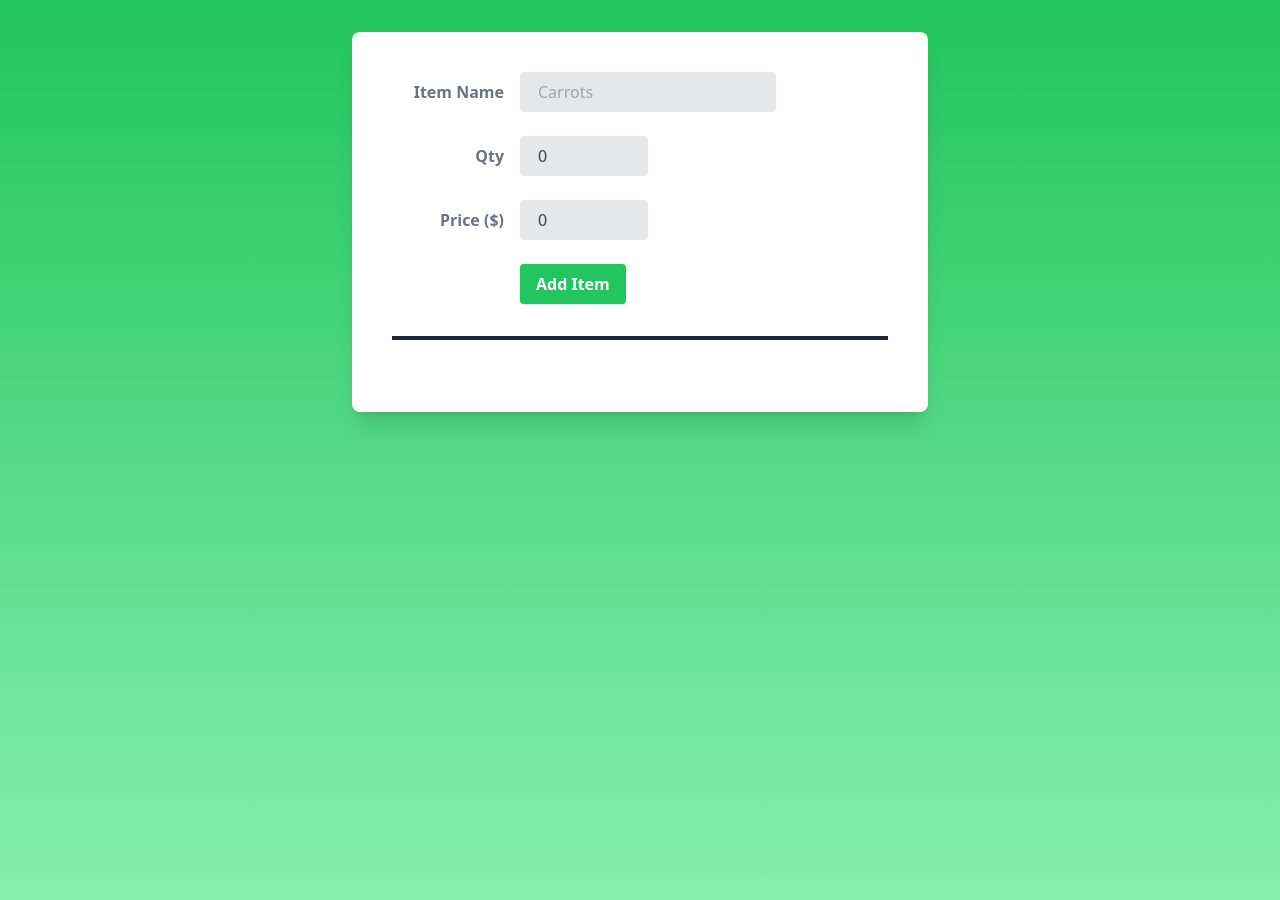
Test case: Adding items › Adds an item to the list
Type "Potatoes" into the field labelled "Item Name" at (648, 92), box [520, 72, 776, 112]
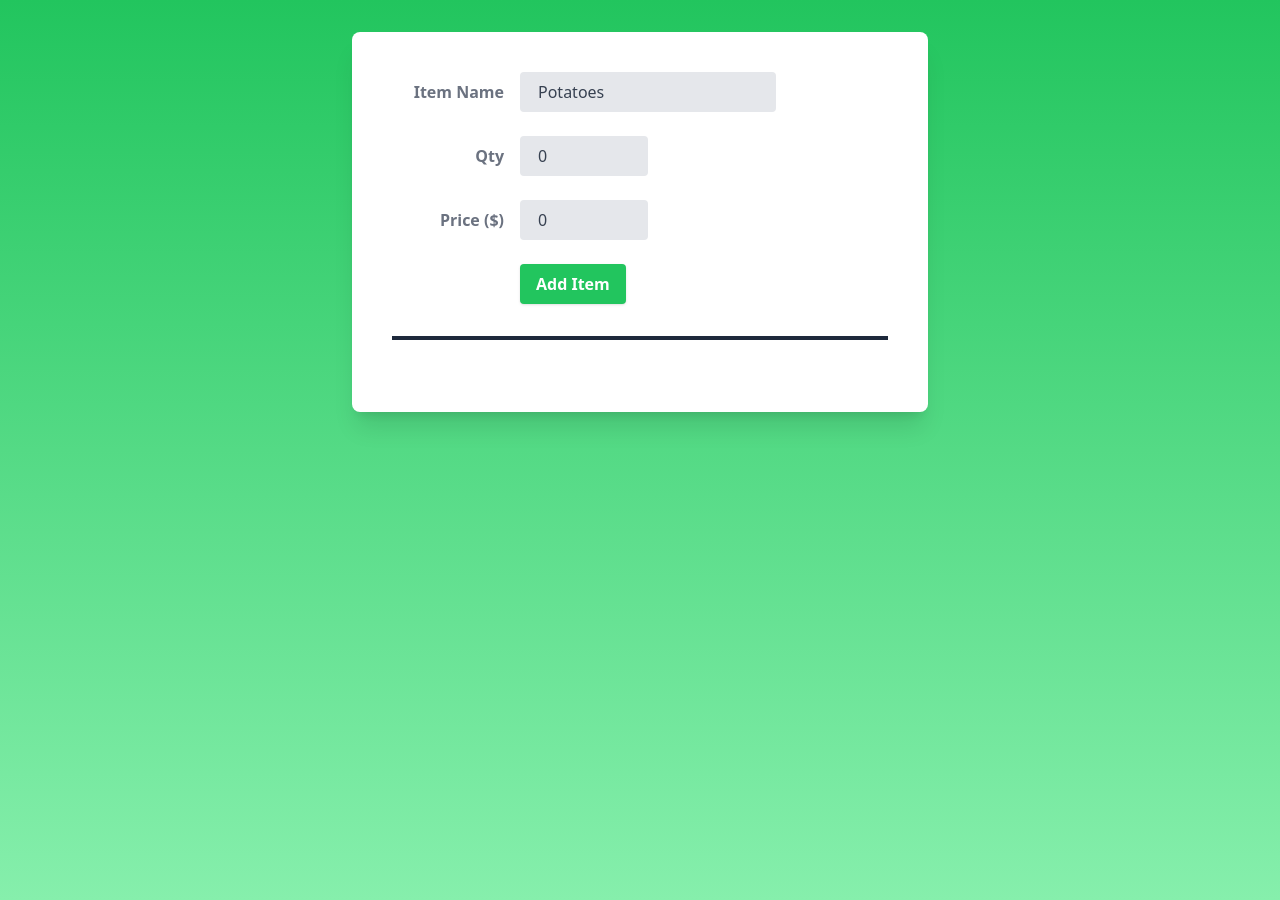
Replace the text in the number field labelled "Qty" with "10" at (584, 156), box [520, 136, 648, 176]
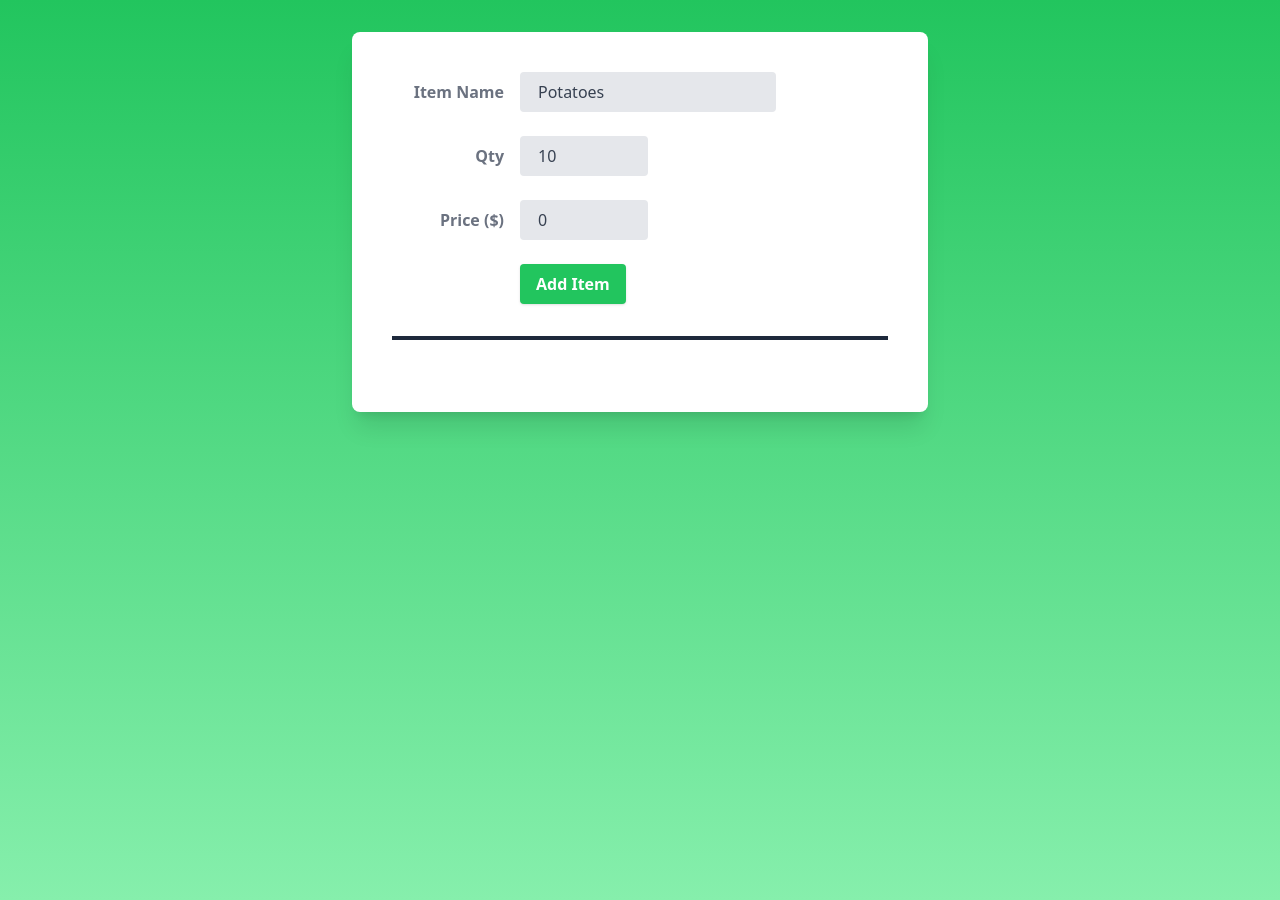
Replace the text in the number field labelled "Price ($)" with "12" at (584, 220), box [520, 200, 648, 240]
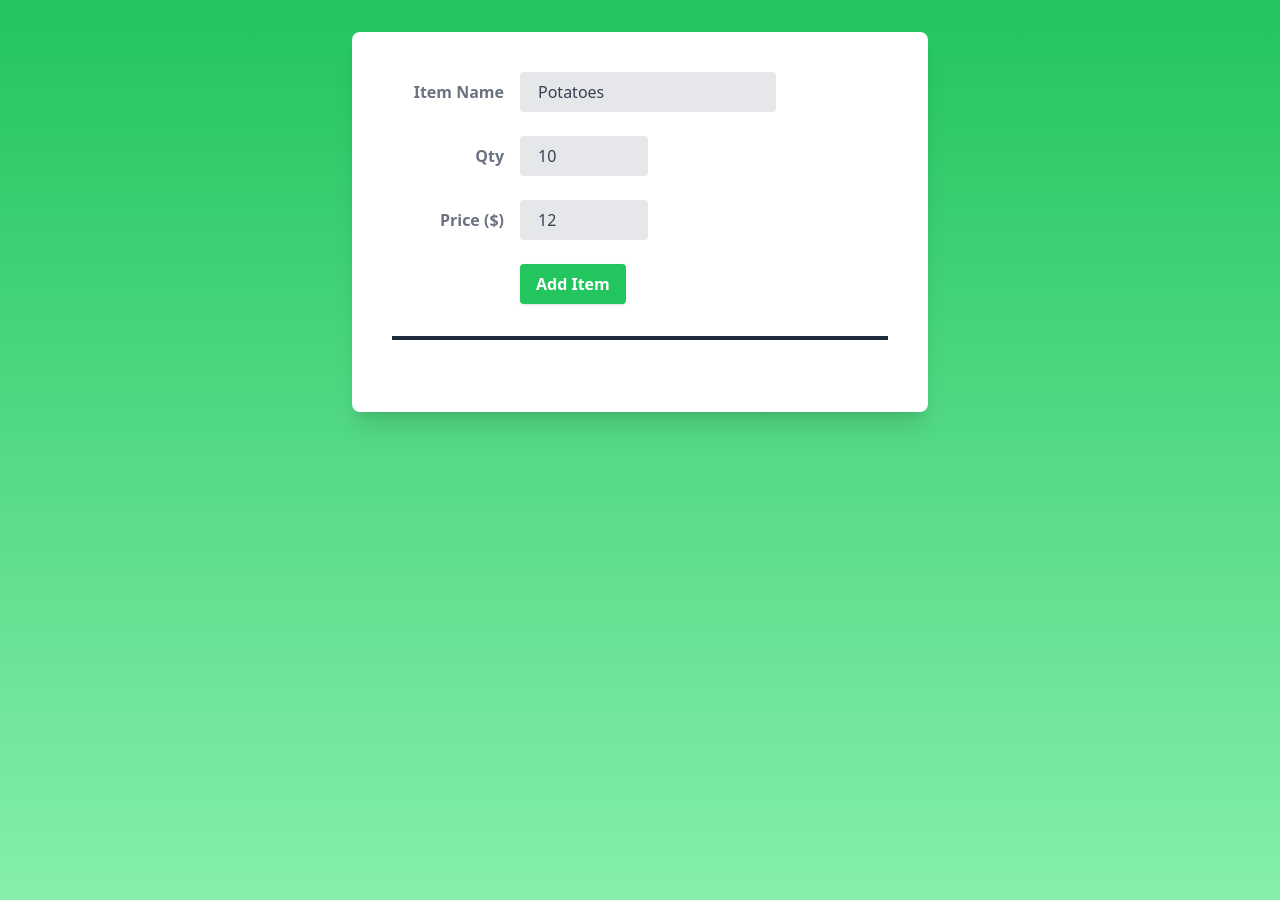
Click the button "Add Item" at (573, 284), box [520, 264, 626, 304]
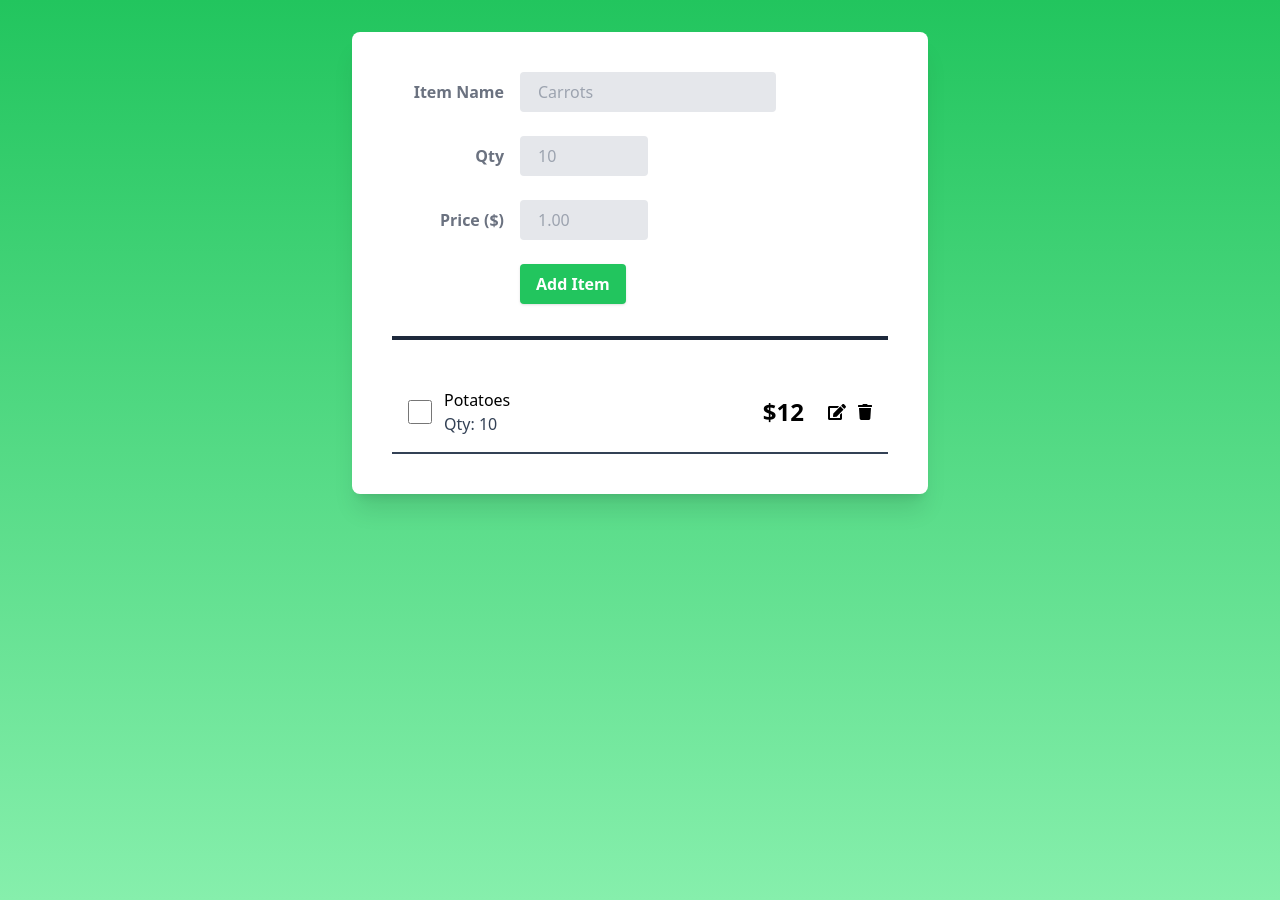
Check: the text "Potatoes Qty: 10" is shown, box [444, 389, 510, 435]
Check: the text "Qty: 10" is shown, box [444, 413, 497, 435]
Check: the text "$12" is shown, box [763, 396, 804, 428]
